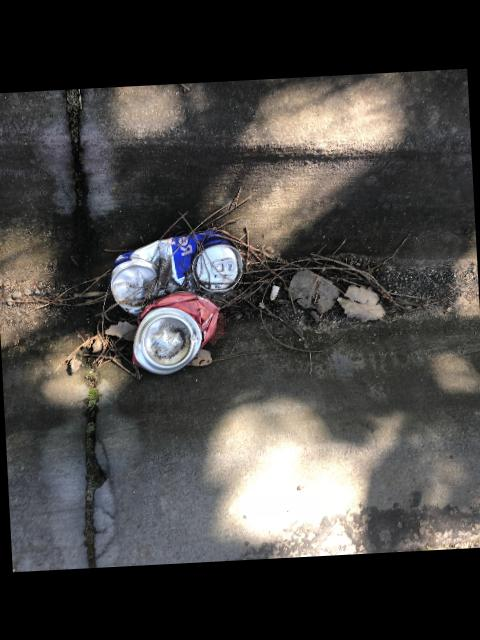metal: (110, 230, 243, 314), (133, 306, 202, 373)
